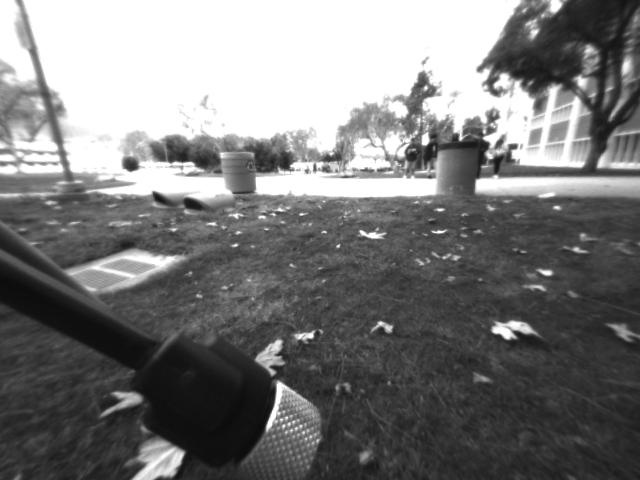trashcan: (433, 135, 481, 199), (217, 143, 260, 198)
